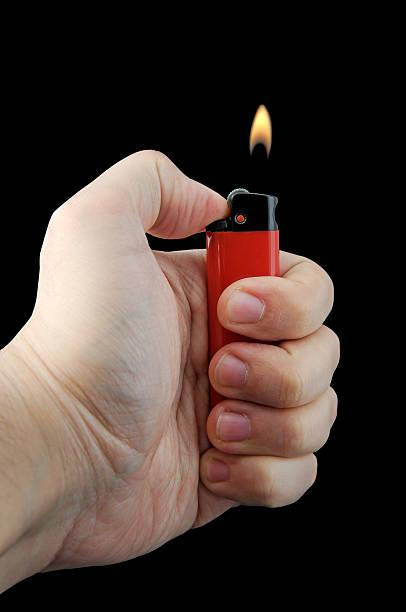Fire: (245, 94, 278, 162)
